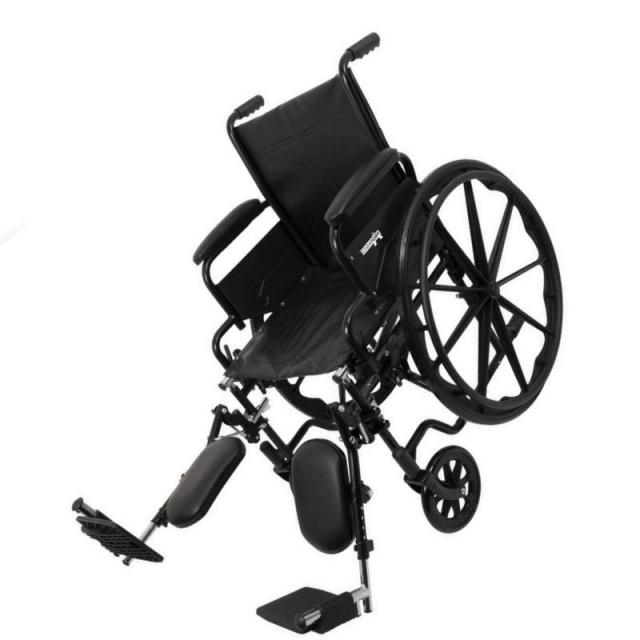wheelchair: (65, 20, 591, 640)
